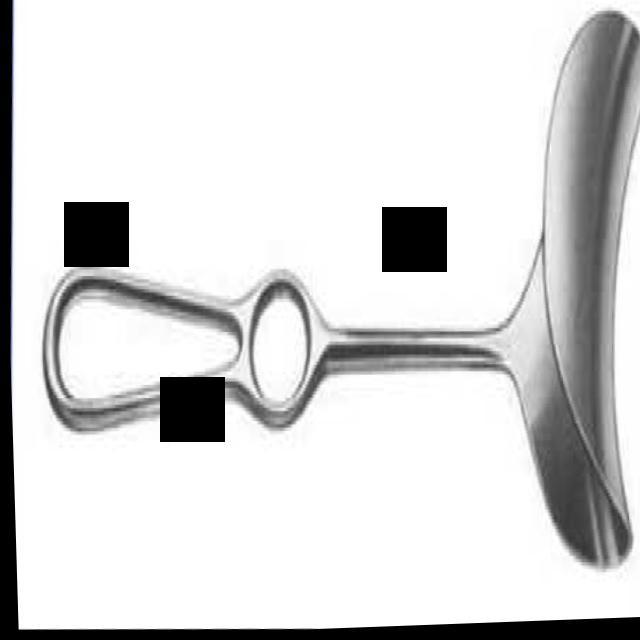Morris Retractor: (32, 0, 640, 600)
